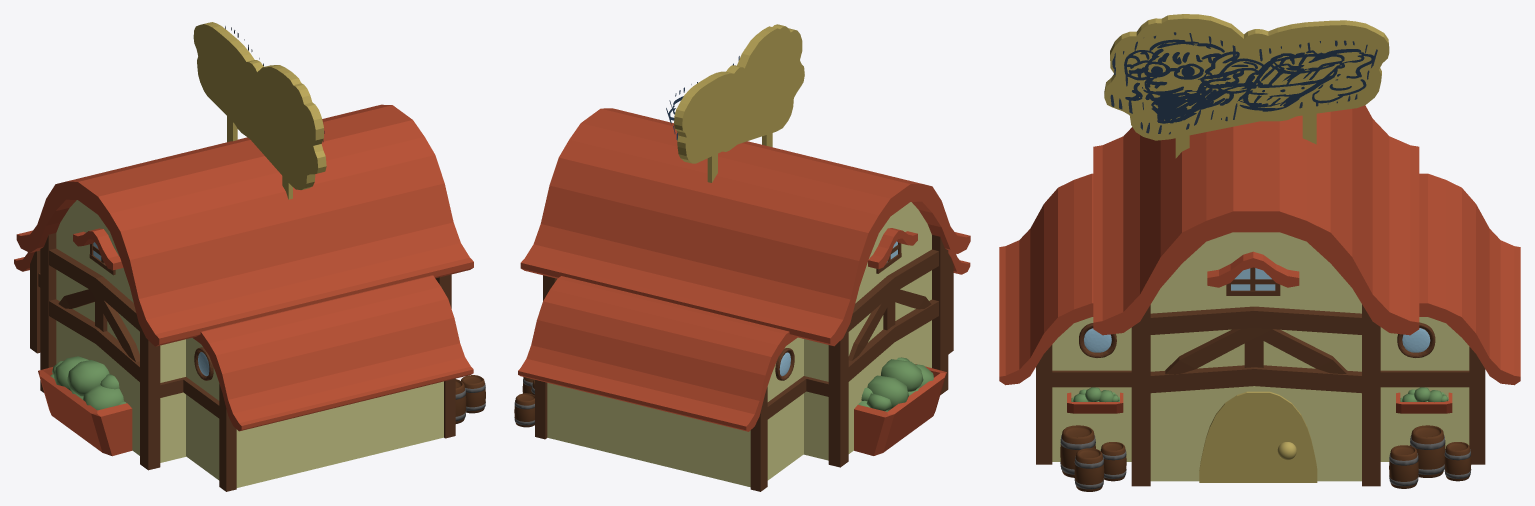
Rendered from CasaHeidrun.fbx.
The picture shows the model from 3 angles, left to right: view 1: azimuth 30°, elevation 25°; view 2: azimuth 150°, elevation 25°; view 3: azimuth 270°, elevation 25°; orthographic projection. The views are drawn at different scales.
Visible parts, largest first — view 1: tejado, tejado.002, casitaizq.001, Plane, Casa, maceta3, Biga2.012, Cube.003, Biga2.013, Biga2.011, Biga2.016, Biga2.019 (+6 smaller); view 2: tejado, tejado.001, casitaizq, Plane, Casa, maceta3, Biga2.011, Cube.003, Biga2.012, Biga2.013, Biga2.016, Biga2.018 (+7 smaller); view 3: tejado, Casa, Plane, tejado.001, tejado.002, cartellogo, puerta, casitaizq, casitaizq.001, Biga2.002, Biga2.005, Biga2.001 (+18 smaller).
Boxes of the visible parts, x1,y1,x2,y2 form: tejado: (16,104,473,346); tejado.002: (192,275,473,431); casitaizq.001: (186,338,443,487); Plane: (193,22,326,189); Casa: (56,200,185,462); maceta3: (38,367,132,456); Biga2.012: (140,326,160,470); Cube.003: (50,356,126,410); Biga2.013: (49,248,139,331); Biga2.011: (40,233,56,392); Biga2.016: (49,299,139,381); Biga2.019: (219,384,236,491); tejado: (520,108,970,346); tejado.001: (518,276,797,431); casitaizq: (547,337,803,487); Plane: (674,24,804,163); Casa: (804,202,931,460); maceta3: (854,364,946,455); Biga2.011: (828,327,848,467); Cube.003: (858,357,933,411); Biga2.012: (932,235,948,394); Biga2.013: (848,249,938,331); Biga2.016: (848,299,938,381); Biga2.018: (750,387,767,491); tejado: (1093,105,1419,335); Casa: (1150,232,1361,481); Plane: (1104,14,1389,140); tejado.001: (1419,173,1520,385); tejado.002: (999,173,1093,385); cartellogo: (1110,32,1377,134); puerta: (1199,391,1317,482); casitaizq: (1380,317,1469,461); casitaizq.001: (1052,317,1131,461); Biga2.002: (1150,306,1361,334); Biga2.005: (1150,365,1361,393); Biga2.001: (1131,305,1150,486).
Bounding box in the file's own units: 1484 × 1412 × 1701.
